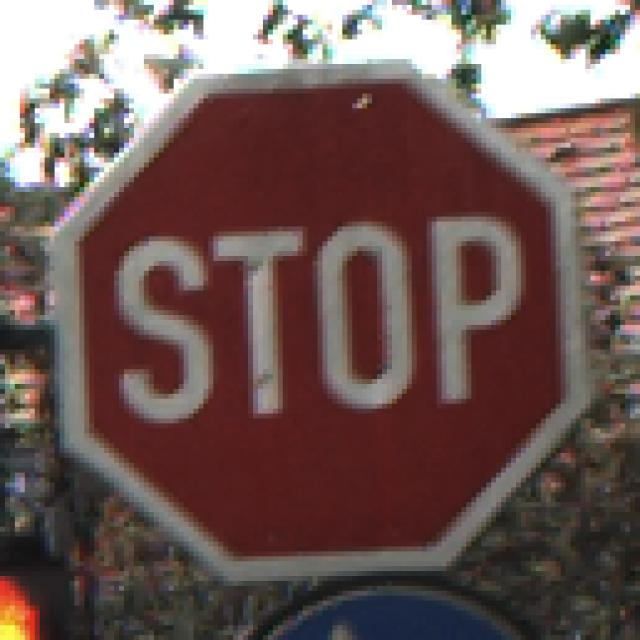STOP: (56, 60, 587, 582)
